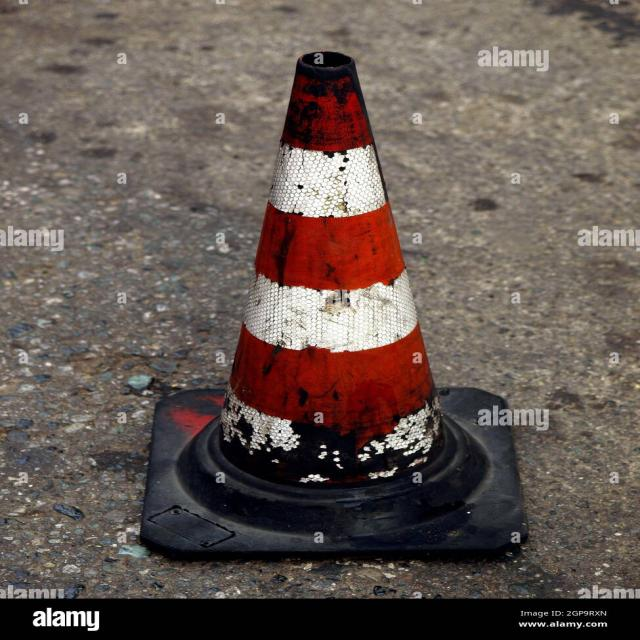Traffic Cone: (83, 26, 578, 573)
